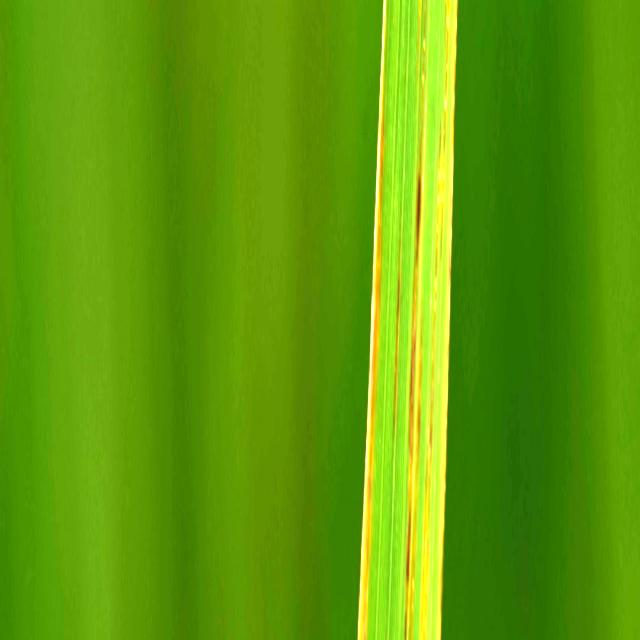BLS: (358, 0, 386, 640), (404, 0, 426, 640), (439, 0, 457, 640), (419, 117, 441, 640), (440, 0, 450, 264), (394, 205, 401, 418), (417, 1, 422, 83)
